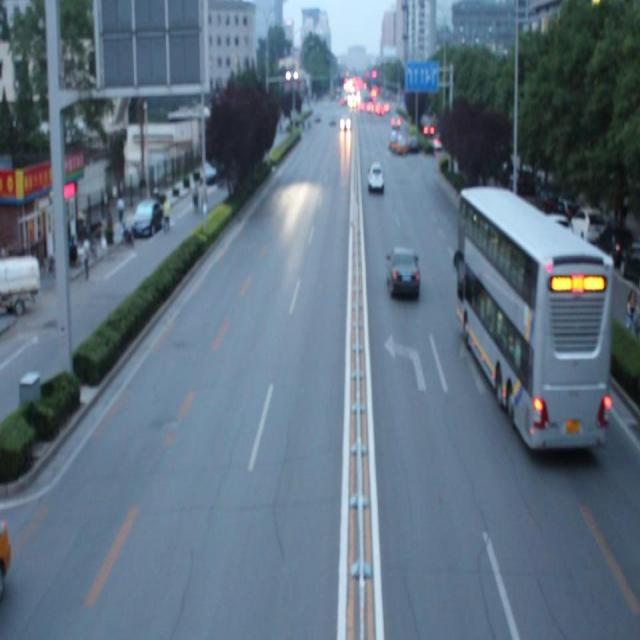car: (388, 244, 422, 305)
van: (459, 185, 607, 446)
